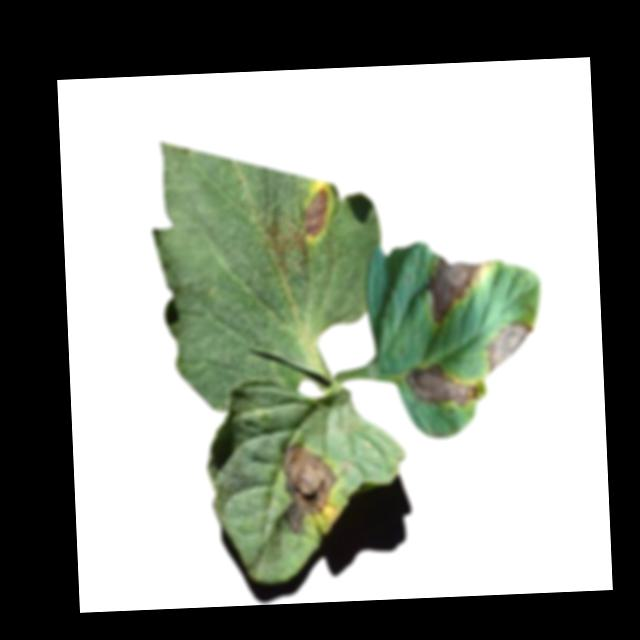Early_blight: (274, 439, 340, 534), (426, 253, 483, 322), (405, 360, 482, 410), (484, 320, 536, 372), (301, 188, 332, 238)
